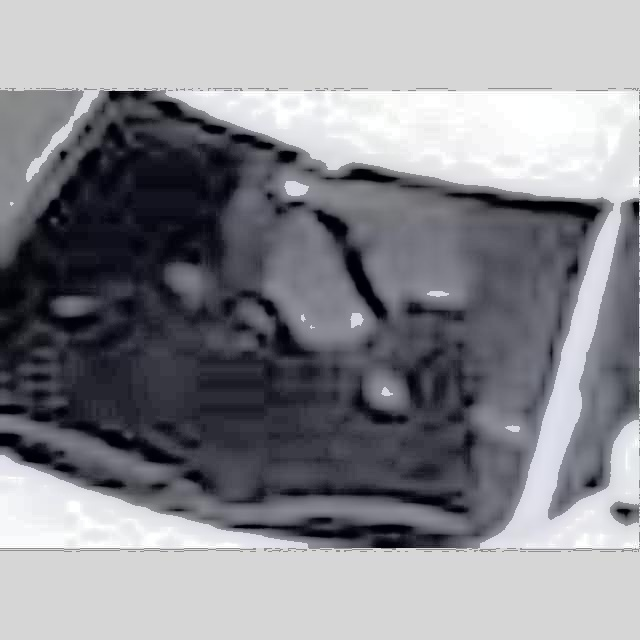pakai: (241, 174, 457, 365)
